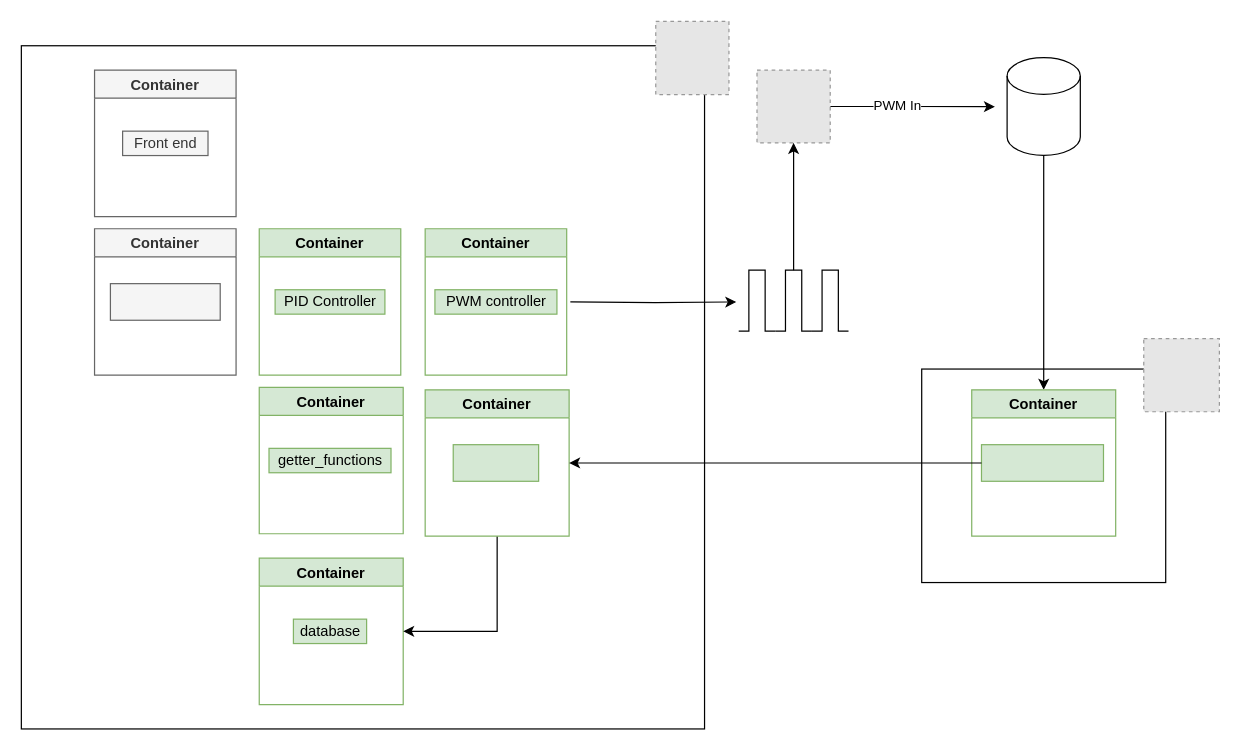
This 1241x750 diagram has some shape labels left out. Grey dashed boxes stand in for pictures. The centre of each missing label's shape, as x and y in pixels:
Kettle: (1043,105)
measure_temp push_temp: (1041,462)
push setPoint push: (164,301)
socket push_temp: (495,462)
